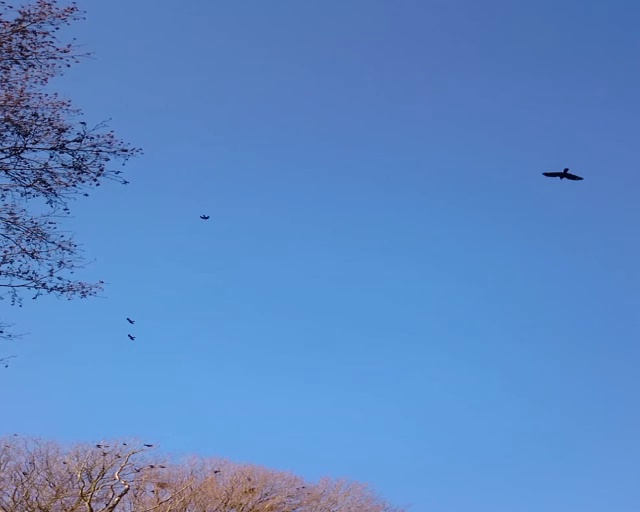BIRD: (125, 317, 137, 341)
